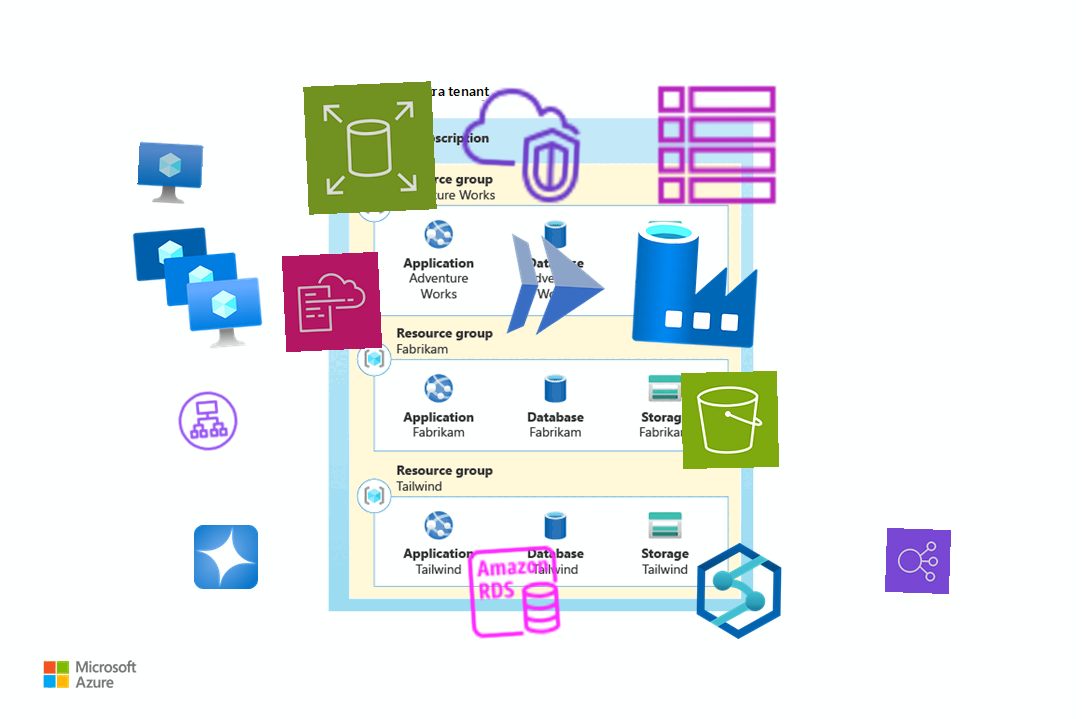aws_amazon_elastic_block_store: (303, 81, 437, 215)
aws_amazon_simple_storage_service: (681, 371, 779, 469)
aws_aurora_amazon_rds_instance: (463, 541, 565, 643)
aws_cloudformation: (281, 251, 383, 353)
aws_dynamodb_table: (652, 80, 782, 210)
aws_elastic_load_balancing: (884, 527, 952, 595)
aws_elastic_load_balancing_application_load_balancer: (173, 386, 243, 456)
aws_vpc_virtual_private_cloud_vpc: (454, 78, 588, 212)
azure_data_factories: (628, 216, 764, 352)
azure_openai: (193, 524, 259, 590)
azure_synapse_analytics: (690, 542, 788, 640)
azure_virtual_machine: (136, 141, 204, 209)
azure_vm_scale_sets: (126, 216, 266, 356)
gcp_cloud_run: (487, 218, 623, 354)
